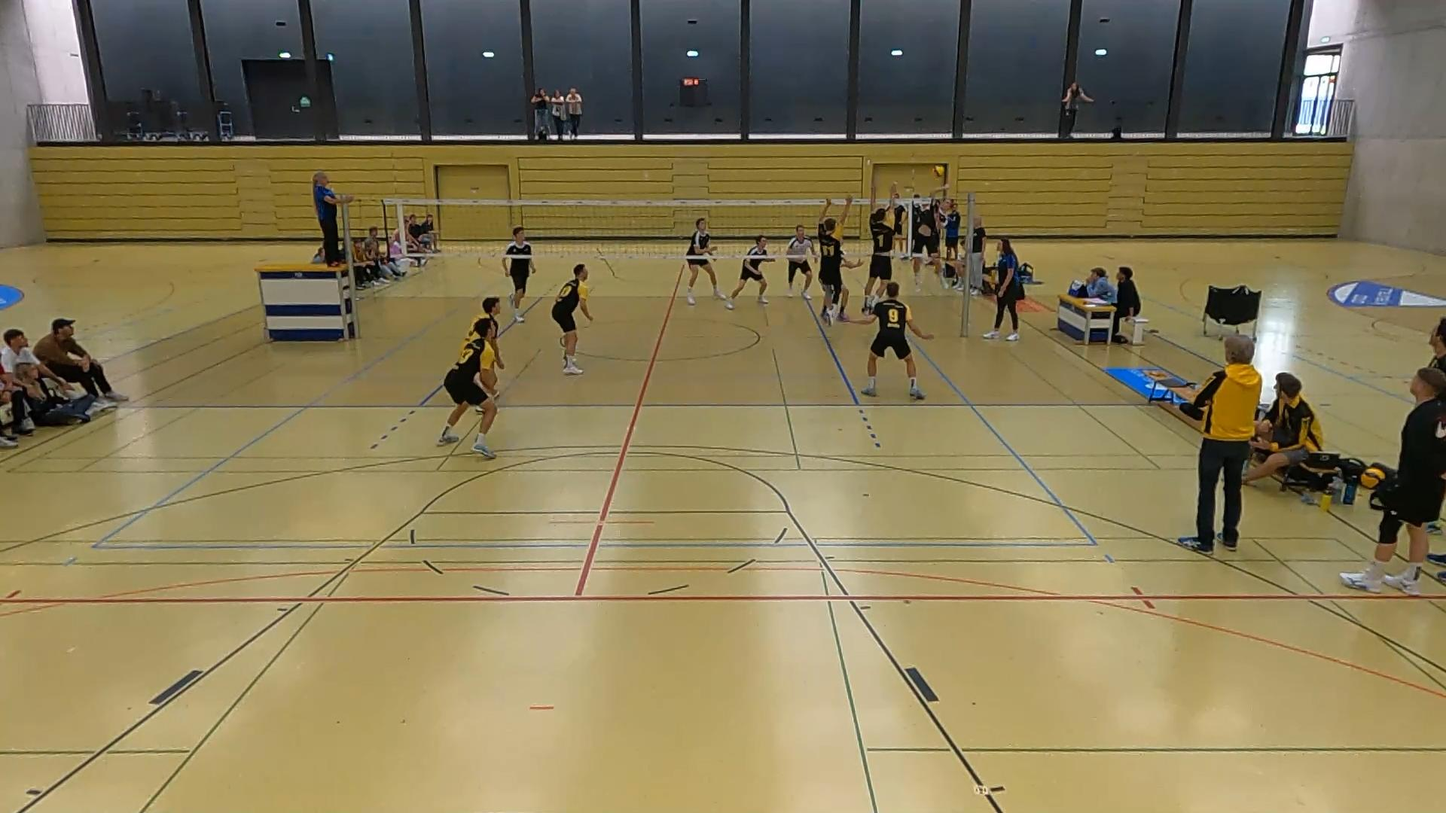attacco: (909, 174, 958, 295)
muro: (808, 192, 856, 329), (864, 178, 901, 320)
